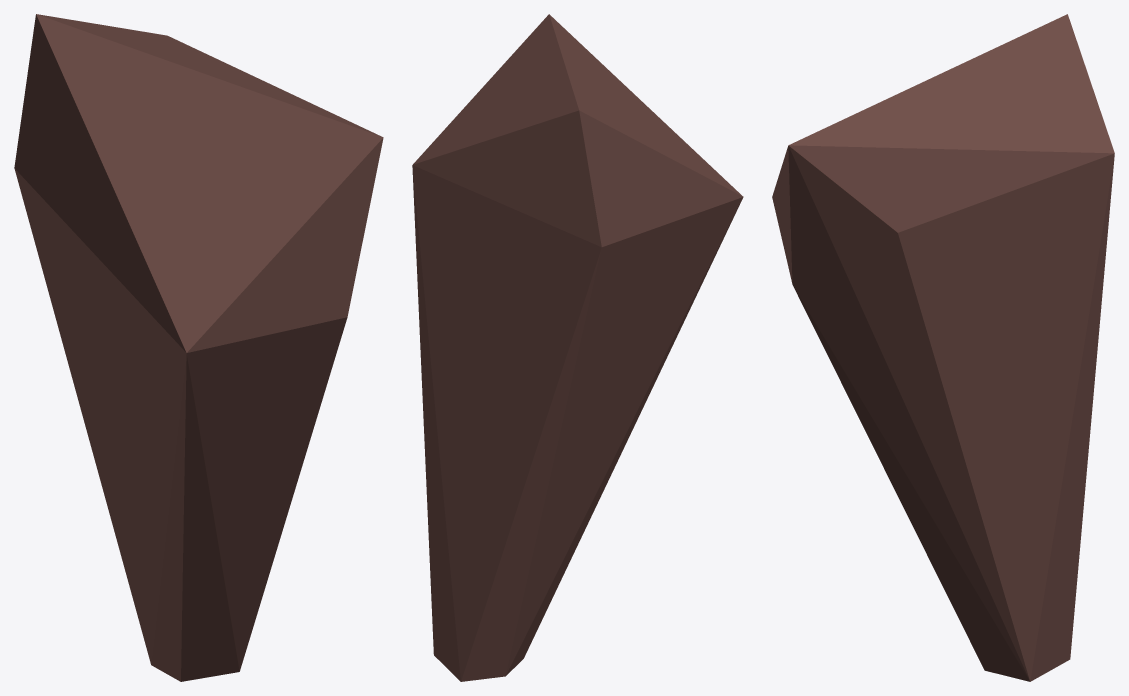
The model's file is CommonTree_Dead_Snow_5.lod4.glb.
3 renders of one model, left to right at view 1: azimuth 30°, elevation 25°; view 2: azimuth 150°, elevation 25°; view 3: azimuth 270°, elevation 25°, orthographic. The views are drawn at different scales.
Visible parts, largest first — view 1: CommonTree_Dead_Snow_5; view 2: CommonTree_Dead_Snow_5; view 3: CommonTree_Dead_Snow_5.
Part boxes in pixels (bbox=[...]): CommonTree_Dead_Snow_5: bbox=[14, 14, 383, 681]; CommonTree_Dead_Snow_5: bbox=[412, 14, 743, 681]; CommonTree_Dead_Snow_5: bbox=[772, 14, 1114, 681].
Size of the model in its own units: 0.8404 by 2.28 by 1.2.
